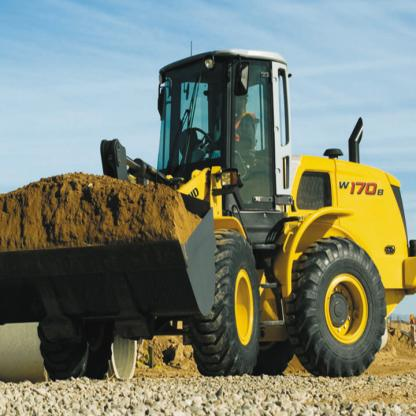bull_dozer/loader/grader: (2, 38, 416, 392)
